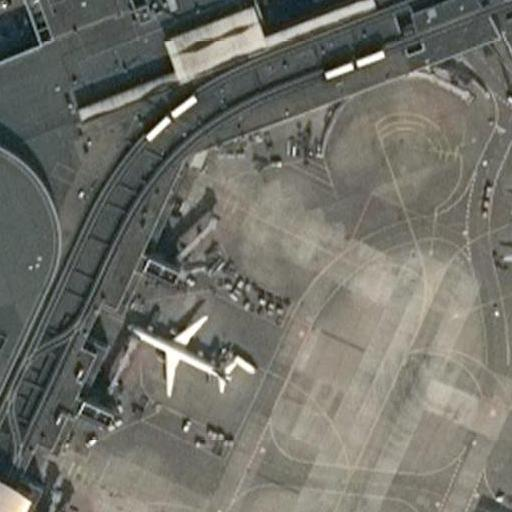Aircraft: (130, 308, 241, 405), (501, 191, 512, 288)
